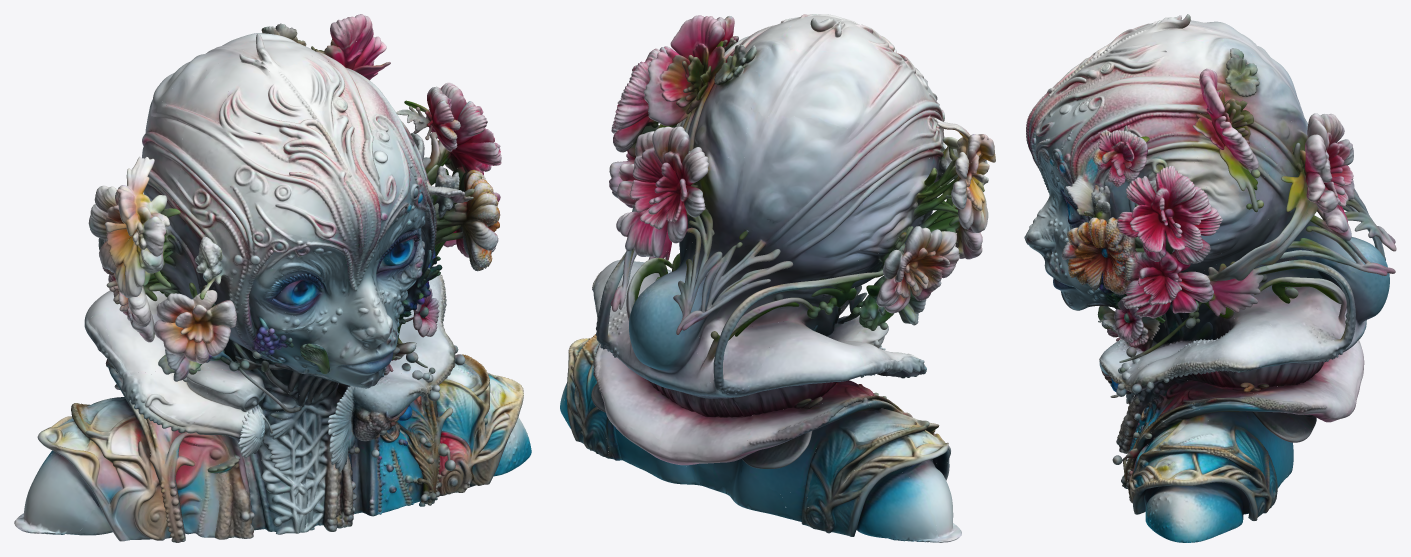
Rendered from xenia-lite.glb.
3 renders of one model, left to right at view 1: azimuth 30°, elevation 25°; view 2: azimuth 150°, elevation 25°; view 3: azimuth 270°, elevation 25°, orthographic. The views are drawn at different scales.
Parts seen in each view (by area): view 1: Xenia; view 2: Xenia; view 3: Xenia.
Part boxes in pixels (bbox=[...]): Xenia: bbox=[14, 14, 531, 542]; Xenia: bbox=[560, 14, 995, 542]; Xenia: bbox=[1024, 14, 1396, 542].
Size of the model in its own units: 1 by 0.9844 by 0.7971.
Materials: 1 (1 with a texture image).
